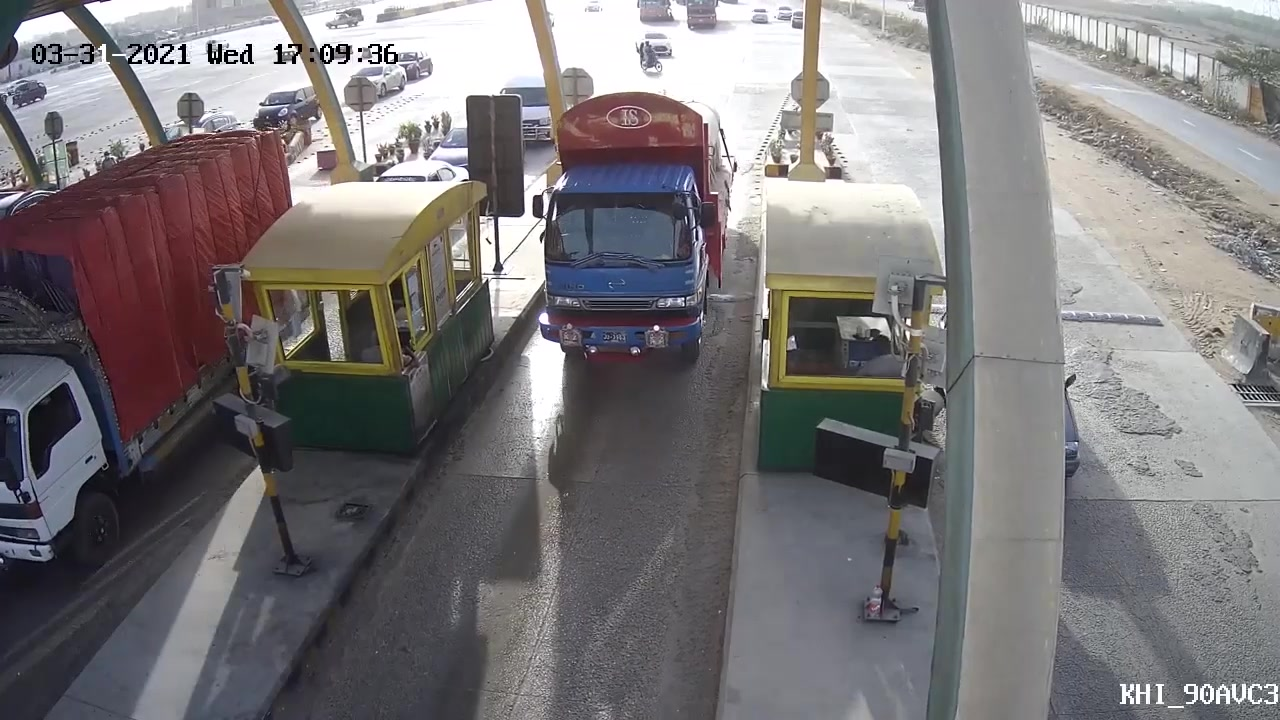F5: (514, 91, 739, 394)
